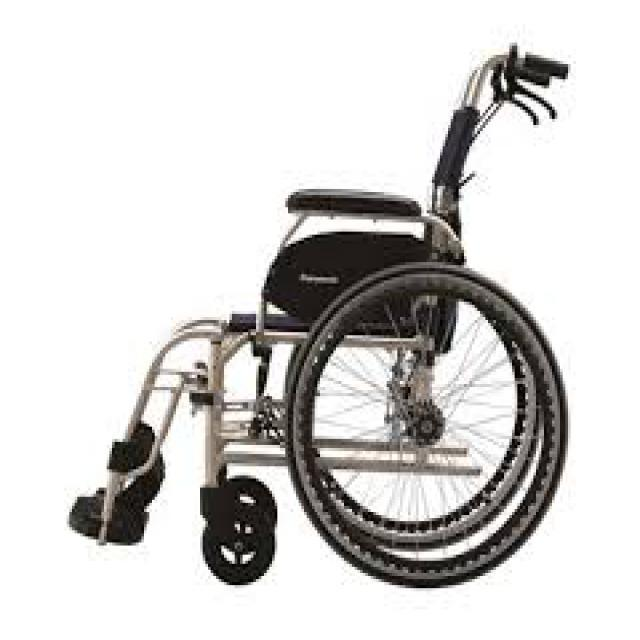wheelchair: (45, 36, 587, 634)
